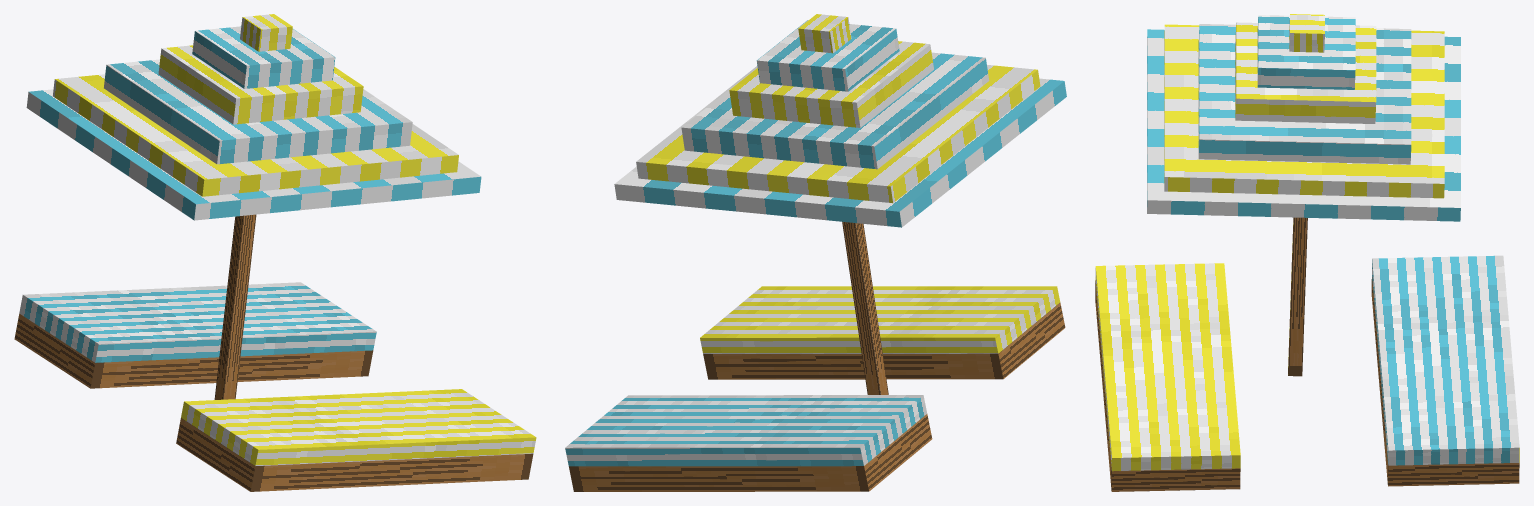
The model's file is BGN_BEACH BED FULL.fbx.
3 views of the same model, side by side, from view 1: azimuth 30°, elevation 25°; view 2: azimuth 150°, elevation 25°; view 3: azimuth 270°, elevation 25° (orthographic). The views are drawn at different scales.
Parts seen in each view (by area): view 1: BGN_BEACH BED FULL; view 2: BGN_BEACH BED FULL; view 3: BGN_BEACH BED FULL.
Part boxes in pixels (left/top/right/bottom): BGN_BEACH BED FULL: left=14, top=14, right=536, bottom=491; BGN_BEACH BED FULL: left=565, top=14, right=1066, bottom=491; BGN_BEACH BED FULL: left=1095, top=14, right=1519, bottom=491.
Size of the model in its own units: 248 by 309 by 298.
